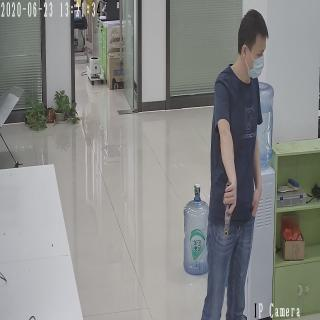gun: (221, 183, 235, 236)
